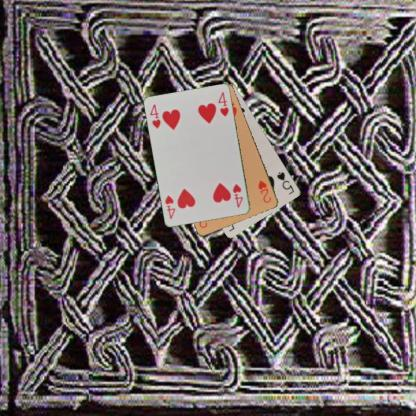2h: (255, 178, 273, 204)
4h: (148, 102, 162, 130), (230, 182, 244, 209)
5s: (274, 169, 296, 196)
